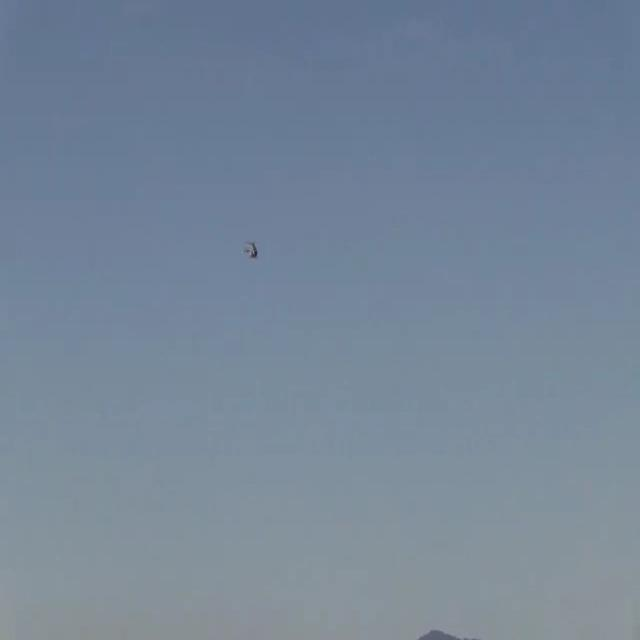Helicopter: (229, 226, 278, 268)
